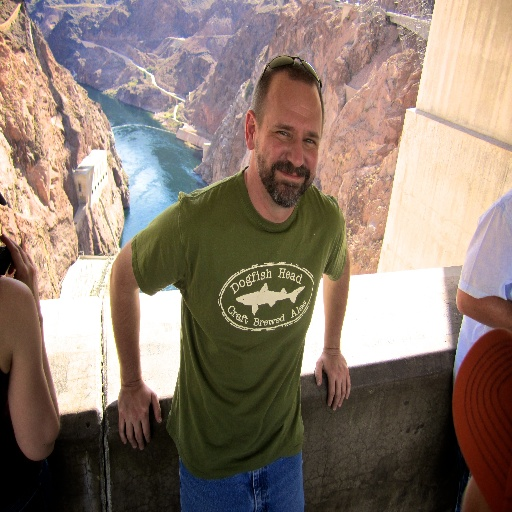hand: (111, 373, 159, 454), (0, 232, 44, 318), (312, 345, 351, 412)
